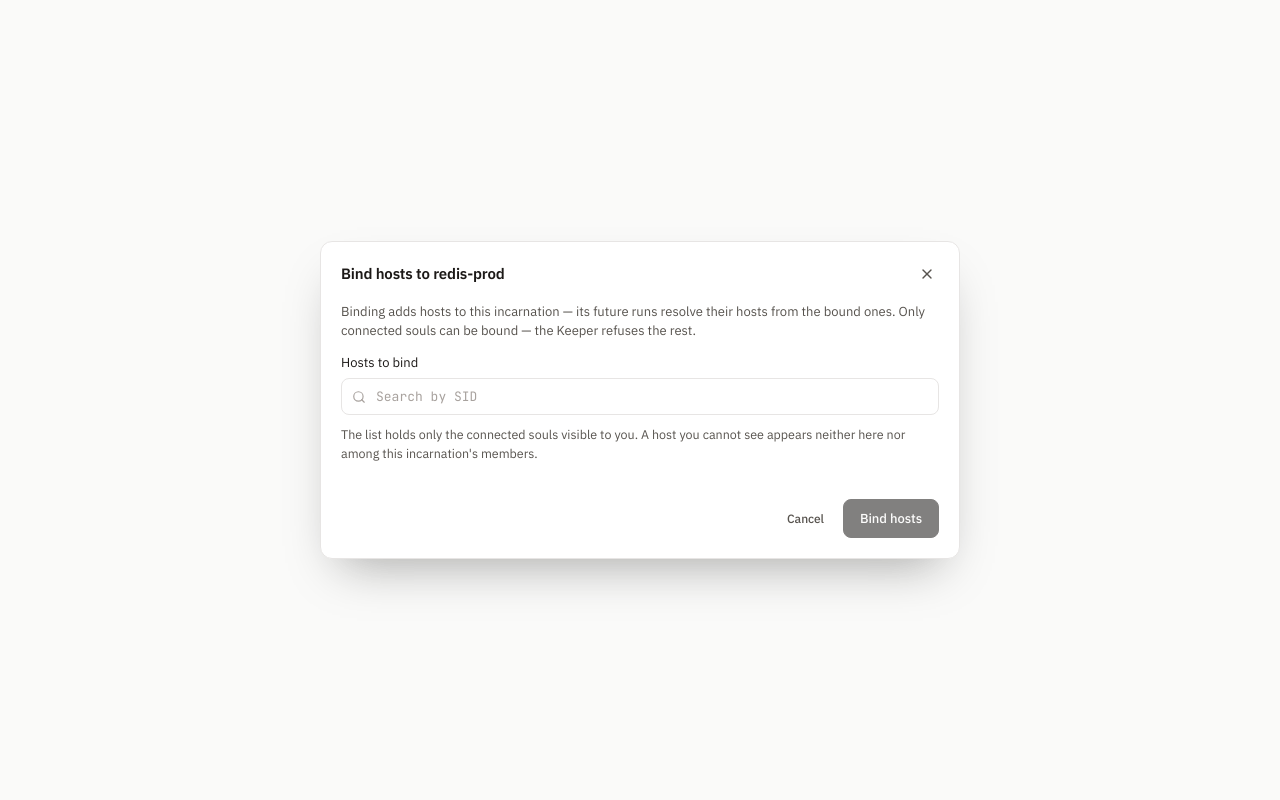
Test case: BindMembersModal › excludes hosts already on the roster
This screenshot has width=1280, height=800.
Click the dropdown with test id "bind-members-search" at {"x": 651, "y": 397}, box 374,387 -> 928,406
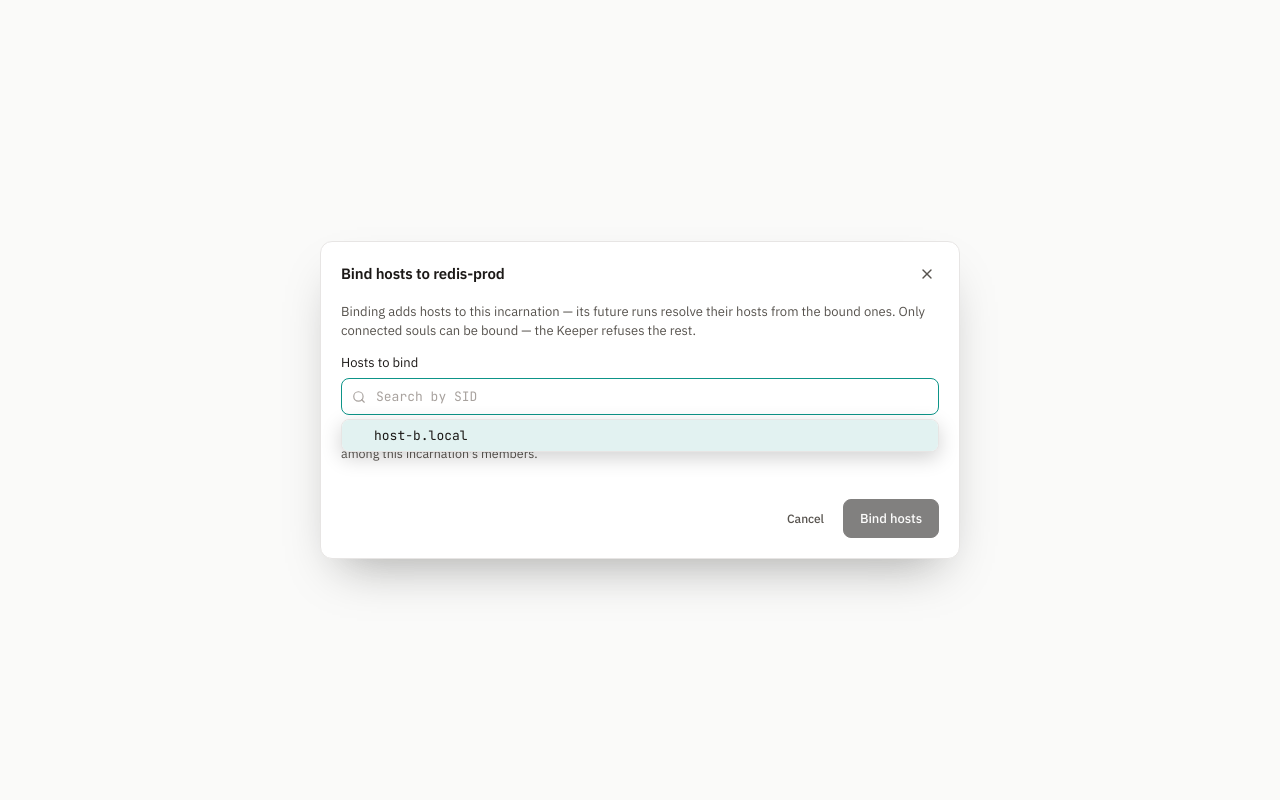
Result: the option with test id "bind-members-option-host-b.local" is shown at 342,420 -> 938,451
